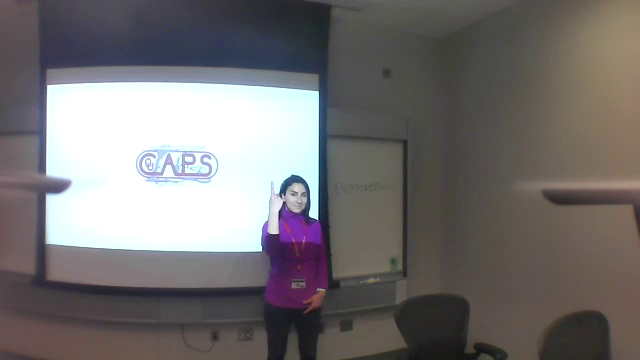up: (265, 179, 287, 209)
